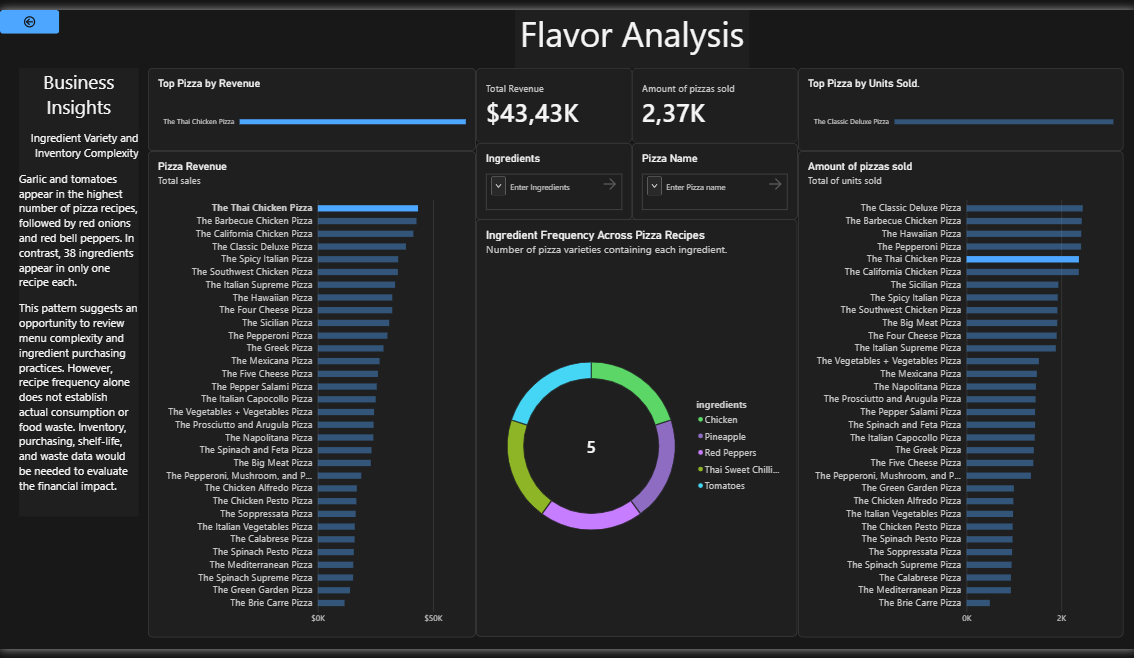

The dashboard page shown, as its layout file describes it:
{"tool":"powerbi","page":{"name":"Flavor_Analysis","canvas":[1920,1080],"ordinal":1},"visuals":[{"type":"clusteredBarChart","title":"Pizza Revenue","fields":{"Category":["Pizza_Revenue_By_Flavor.name"],"Y":["order_details.Total Sales"]},"box":[250,238,554,822],"z":0},{"type":"textbox","box":[870,0,396,98],"z":1000},{"type":"hundredPercentStackedBarChart","title":"Top Pizza by Revenue","fields":{"Category":["Pizza_Revenue_By_Flavor.name"],"Y":["order_details.Total Sales"]},"box":[250,98,554,140],"z":2000},{"type":"hundredPercentStackedBarChart","title":"Top Pizza by Units Sold.","fields":{"Category":["Pizza_Revenue_By_Flavor.name"],"Y":["Sum(Pizza_Revenue_By_Flavor.total_revenue)"]},"box":[1348,98,550,140],"z":3000},{"type":"donutChart","title":"Ingredient Frequency Across Pizza Recipes","fields":{"Category":["Pizza_Ingredients_Split.ingredients"],"Y":["CountNonNull(Pizza_Ingredients_Split.ingredients)"]},"box":[803.8,353.8,542.5,706.2],"z":4000},{"type":"clusteredBarChart","title":"Amount of pizzas sold","fields":{"Category":["Pizza_Revenue_By_Flavor.name"],"Y":["Sum(Pizza_Revenue_By_Flavor.total_quantity)"]},"box":[1348,238,550,822],"z":5000},{"type":"textSlicer","title":"Pizza Name","fields":{"Values":["Pizza_Revenue_By_Flavor.name"]},"box":[1068,224,280,130],"z":6000},{"type":"actionButton","box":[0,0,100,40],"z":7000},{"type":"cardVisual","fields":{"Data":["Sum(Pizza_Revenue_By_Flavor.total_revenue)"]},"box":[804,98,264,126],"z":8000},{"type":"cardVisual","fields":{"Data":["Sum(Pizza_Revenue_By_Flavor.total_quantity)"]},"box":[1068,98,280,126],"z":9000},{"type":"textbox","box":[32,98,202,758],"z":10000},{"type":"textSlicer","fields":{"Values":["Pizza_Ingredients_Split.ingredients"]},"box":[804,224,264,130],"z":10001}]}

Visuals, with their boxes on the page's 1920x1080 design canvas (x1, y1, x2, y2). These are canvas units, not pixel positions in the 1134x658 screenshot, which may show the page scaled, cropped or inside an application window:
"Pizza Revenue" clusteredBarChart: x1=250 y1=238 x2=804 y2=1060
textbox: x1=870 y1=0 x2=1266 y2=98
"Top Pizza by Revenue" hundredPercentStackedBarChart: x1=250 y1=98 x2=804 y2=238
"Top Pizza by Units Sold." hundredPercentStackedBarChart: x1=1348 y1=98 x2=1898 y2=238
"Ingredient Frequency Across Pizza Recipes" donutChart: x1=804 y1=354 x2=1346 y2=1060
"Amount of pizzas sold" clusteredBarChart: x1=1348 y1=238 x2=1898 y2=1060
"Pizza Name" textSlicer: x1=1068 y1=224 x2=1348 y2=354
actionButton: x1=0 y1=0 x2=100 y2=40
cardVisual - Sum(Pizza_Revenue_By_Flavor.total_revenue): x1=804 y1=98 x2=1068 y2=224
cardVisual - Sum(Pizza_Revenue_By_Flavor.total_quantity): x1=1068 y1=98 x2=1348 y2=224
textbox: x1=32 y1=98 x2=234 y2=856
textSlicer - Pizza_Ingredients_Split.ingredients: x1=804 y1=224 x2=1068 y2=354
